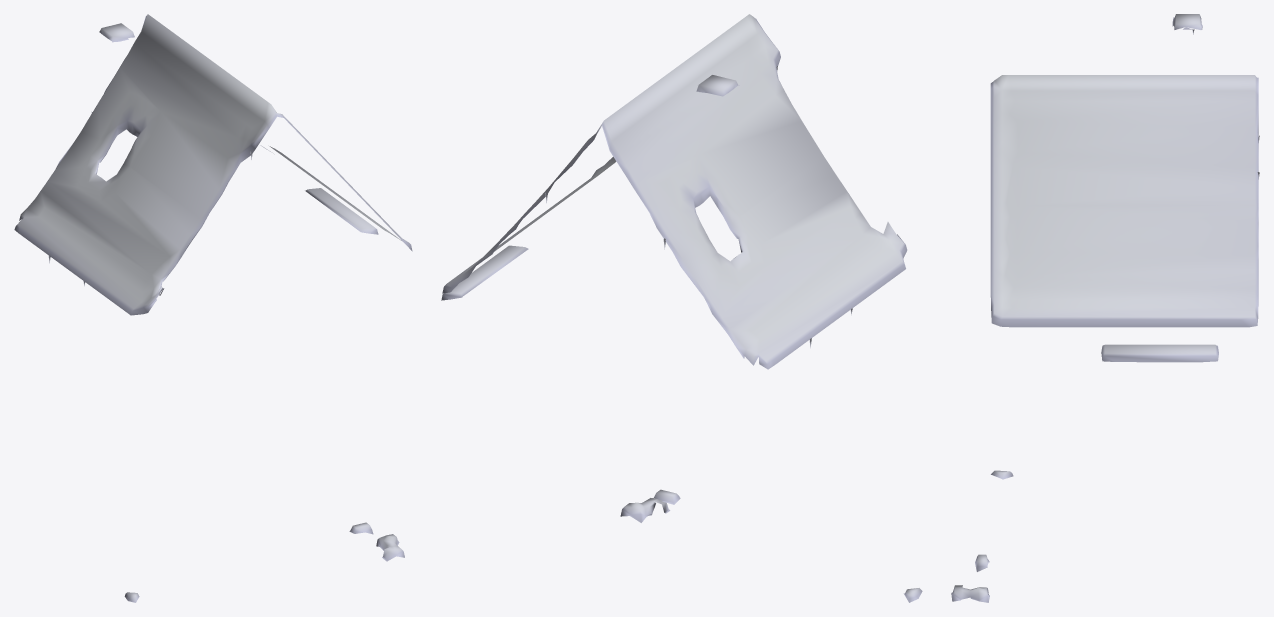
The model's file is category.dex.m.snow.glb.
The picture shows the model from 3 angles, left to right: view 1: azimuth 30°, elevation 25°; view 2: azimuth 150°, elevation 25°; view 3: azimuth 270°, elevation 25°; orthographic projection. The views are drawn at different scales.
Visible parts, largest first — view 1: snow, tier.4; view 2: snow, tier.4; view 3: snow, tier.4.
Boxes of the visible parts, left/top/right/bottom form: snow: left=14, top=14, right=412, bottom=561; tier.4: left=305, top=188, right=378, bottom=234; snow: left=442, top=14, right=907, bottom=522; tier.4: left=441, top=245, right=528, bottom=300; snow: left=951, top=14, right=1259, bottom=602; tier.4: left=1101, top=344, right=1218, bottom=362.
Bounding box in the file's own units: 5.84 × 9.02 × 5.08.
